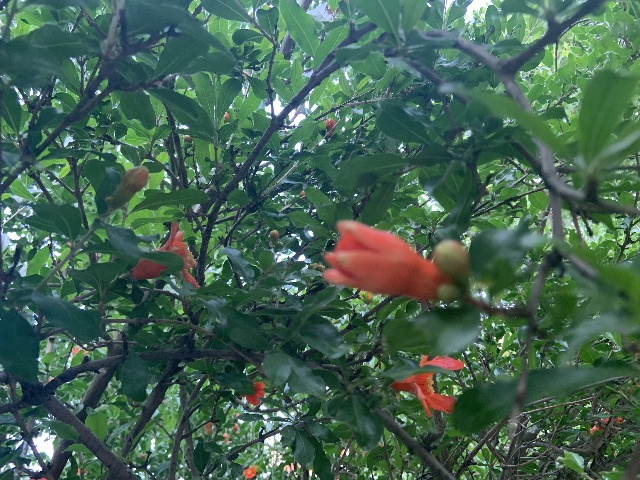bud: (433, 239, 470, 282), (115, 166, 149, 199), (324, 118, 336, 134), (269, 229, 279, 245), (204, 421, 213, 434), (311, 265, 325, 272)
flower: (322, 220, 447, 302), (389, 353, 462, 417), (131, 220, 198, 287), (590, 411, 623, 433), (242, 378, 265, 406), (243, 465, 257, 479)
